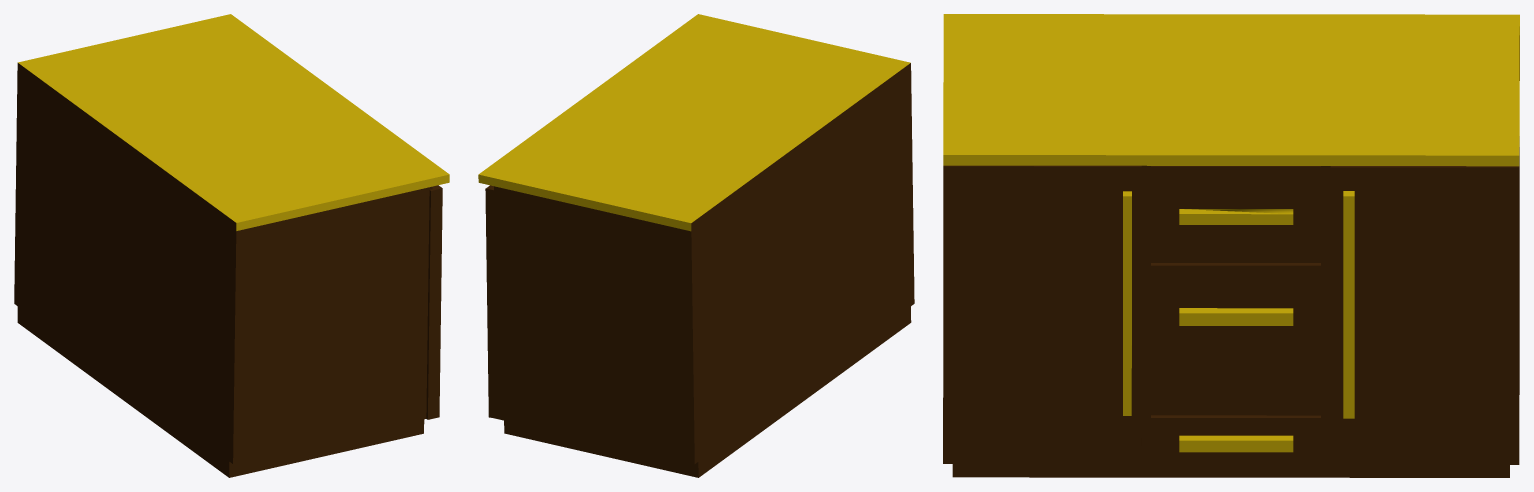
File: dresser.fbx
3 views of the same model, side by side, from view 1: azimuth 30°, elevation 25°; view 2: azimuth 150°, elevation 25°; view 3: azimuth 270°, elevation 25° (orthographic). The views are drawn at different scales.
Parts seen in each view (by area): view 1: Cube.006; view 2: Cube.006; view 3: Cube.006.
Part boxes in pixels (x1,y1,x2,y2): Cube.006: (14,14,449,477); Cube.006: (478,14,914,477); Cube.006: (943,14,1519,477).
Bounding box in the file's own units: 302 × 344 × 528.
